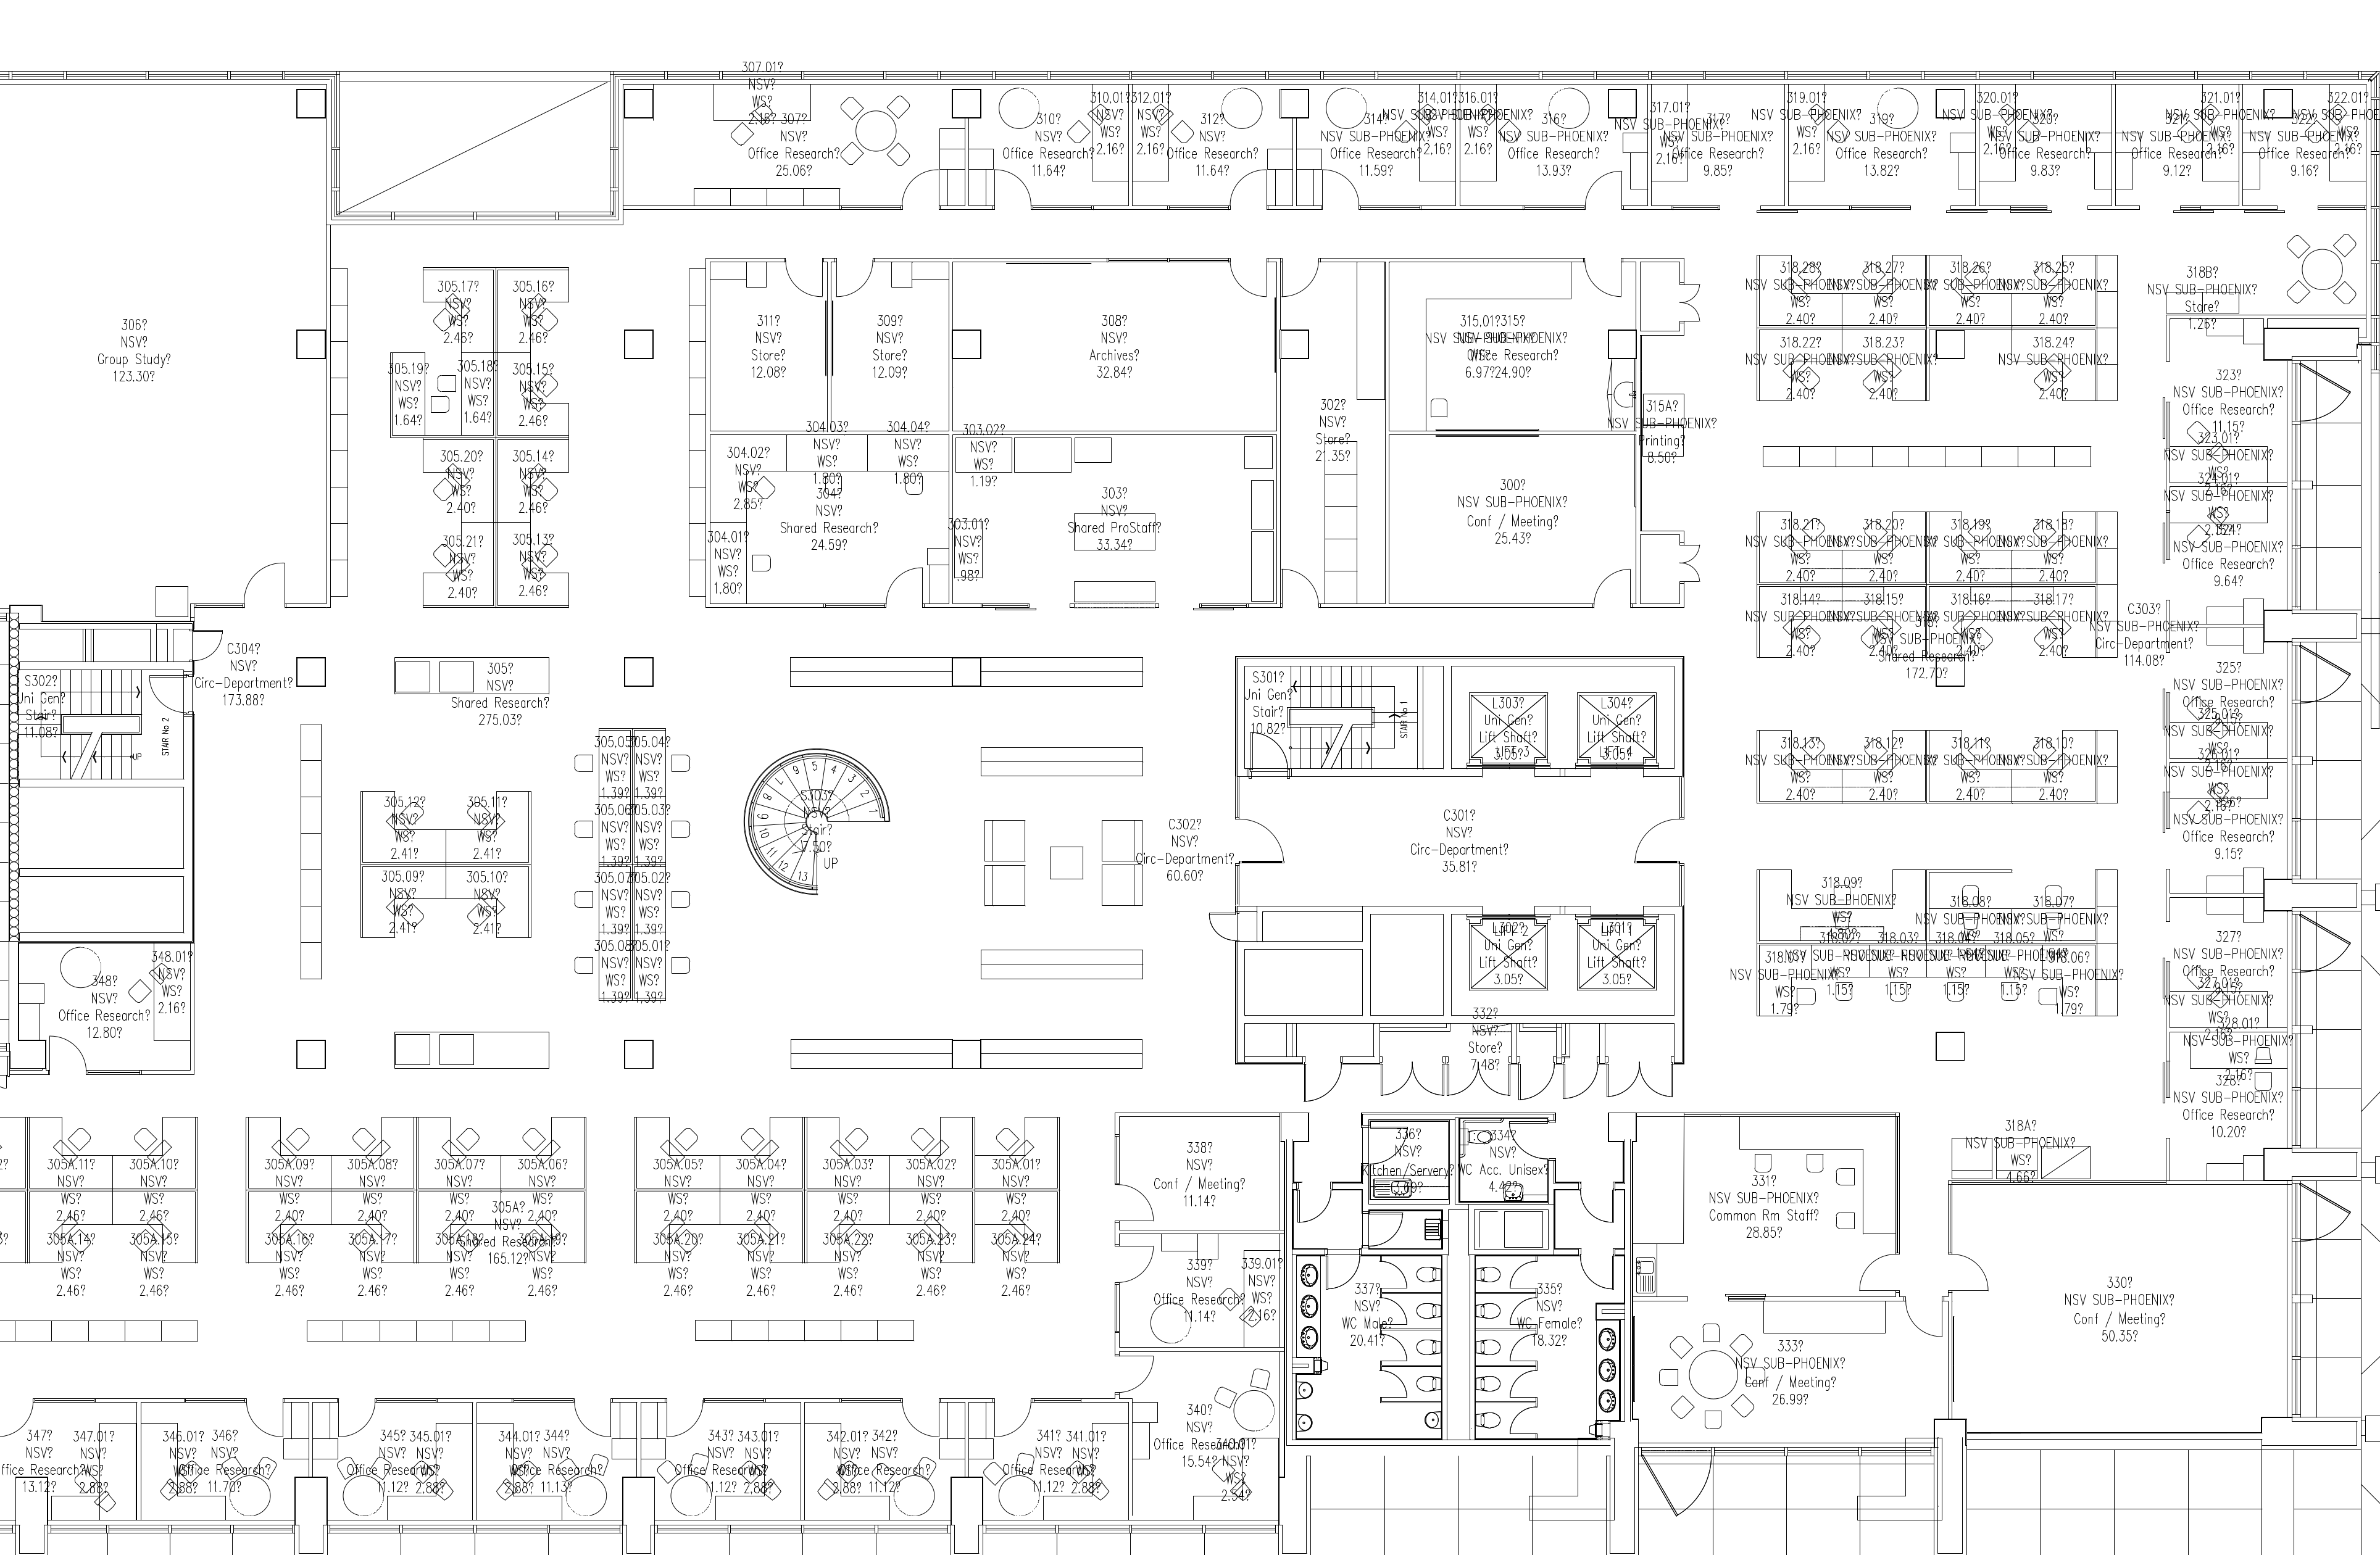text: (1745, 955, 2123, 1019), (1710, 1321, 1861, 1423), (1401, 302, 1581, 384), (1955, 1100, 2083, 1197), (2057, 1262, 2184, 1354), (193, 618, 304, 720), (146, 1418, 274, 1506), (437, 651, 561, 743), (1366, 1102, 1460, 1218), (1444, 1116, 1555, 1210), (1444, 476, 1583, 550), (1694, 1166, 1828, 1241), (2166, 1064, 2285, 1145), (2147, 260, 2260, 344), (1863, 618, 1991, 691), (1057, 479, 1167, 564), (1607, 392, 1722, 472), (778, 484, 892, 564), (94, 312, 193, 404), (47, 965, 149, 1053), (2, 1427, 128, 1496), (2007, 510, 2114, 590), (1746, 724, 1851, 805), (1786, 868, 1899, 942), (1750, 85, 1864, 158), (1128, 812, 1238, 887), (2003, 722, 2107, 800), (1993, 109, 2104, 182), (1149, 1137, 1248, 1218), (2179, 364, 2286, 439), (1408, 809, 1522, 878), (2165, 977, 2288, 1041), (1319, 1276, 1420, 1354), (1831, 508, 1932, 587), (2175, 925, 2291, 991), (995, 1418, 1088, 1499), (2172, 793, 2281, 863), (2163, 529, 2285, 592), (1149, 1406, 1264, 1472), (1830, 108, 1932, 180), (467, 1194, 557, 1276), (752, 111, 844, 191), (1833, 724, 1932, 797), (1318, 111, 1417, 184), (733, 288, 800, 394), (1462, 691, 1557, 765), (349, 1428, 448, 1499), (722, 1126, 793, 1225), (2017, 260, 2114, 331), (1003, 104, 1092, 182), (851, 305, 929, 394), (2012, 590, 2111, 659), (2009, 873, 2109, 941), (2173, 1024, 2291, 1081), (1149, 1253, 1241, 1326), (1500, 109, 1604, 174), (2166, 743, 2276, 804), (1505, 1276, 1595, 1348), (1739, 590, 1842, 654), (2118, 113, 2220, 177), (517, 1423, 611, 1493), (1743, 514, 1838, 581), (1172, 108, 1260, 179), (1288, 392, 1370, 469), (1835, 590, 1925, 658), (1925, 260, 2015, 328), (856, 1423, 932, 1503), (1575, 913, 1656, 987), (1618, 92, 1703, 163), (1918, 871, 2007, 939), (2165, 470, 2276, 524), (2166, 429, 2278, 482), (1472, 913, 1547, 993), (1932, 512, 2012, 587), (646, 1137, 712, 1227), (1937, 732, 2026, 798), (2260, 108, 2338, 182), (332, 1142, 399, 1227), (1238, 663, 1314, 738), (2165, 705, 2274, 757), (1076, 305, 1154, 378), (1932, 592, 2015, 659), (1575, 694, 1653, 765), (680, 1432, 759, 1503), (983, 1225, 1052, 1305), (1675, 111, 1759, 177), (505, 1149, 575, 1227), (415, 1232, 488, 1305), (807, 1427, 878, 1501), (509, 1227, 578, 1303), (420, 528, 490, 602), (371, 351, 432, 436), (503, 444, 562, 531), (425, 443, 488, 524), (450, 790, 521, 861), (398, 1423, 460, 1503), (1962, 83, 2031, 154), (368, 790, 436, 863), (648, 1227, 710, 1305), (904, 1222, 960, 1309), (955, 415, 1016, 493), (727, 1232, 792, 1305), (819, 1149, 880, 1224), (42, 1225, 102, 1300), (1411, 80, 1463, 167), (42, 1147, 101, 1224), (446, 354, 505, 430), (2173, 661, 2281, 703), (989, 1145, 1047, 1224), (425, 274, 483, 352), (505, 269, 562, 347), (731, 56, 788, 132), (368, 864, 431, 934), (734, 1430, 788, 1510), (1460, 1001, 1510, 1086), (12, 668, 69, 743), (1083, 90, 1139, 167), (339, 1227, 399, 1296), (726, 439, 783, 512), (502, 354, 559, 427), (899, 1149, 955, 1224), (1057, 1430, 1118, 1498), (493, 1421, 543, 1503), (2186, 90, 2255, 149), (821, 1229, 877, 1302), (429, 1151, 484, 1224), (260, 1227, 314, 1302), (503, 528, 557, 602), (941, 517, 1003, 581), (128, 1222, 181, 1298), (1203, 1439, 1259, 1510), (799, 415, 854, 486), (122, 1154, 181, 1220), (1458, 83, 1503, 168), (455, 866, 509, 937), (882, 413, 930, 489), (264, 1147, 311, 1225), (1125, 89, 1174, 163), (703, 526, 753, 597), (1238, 1248, 1279, 1333), (590, 725, 634, 804), (625, 935, 672, 1007), (144, 941, 187, 1015), (627, 798, 668, 873), (628, 729, 670, 802), (588, 941, 634, 1007), (590, 798, 630, 869), (588, 868, 630, 935), (630, 868, 667, 937), (2312, 90, 2380, 127)
